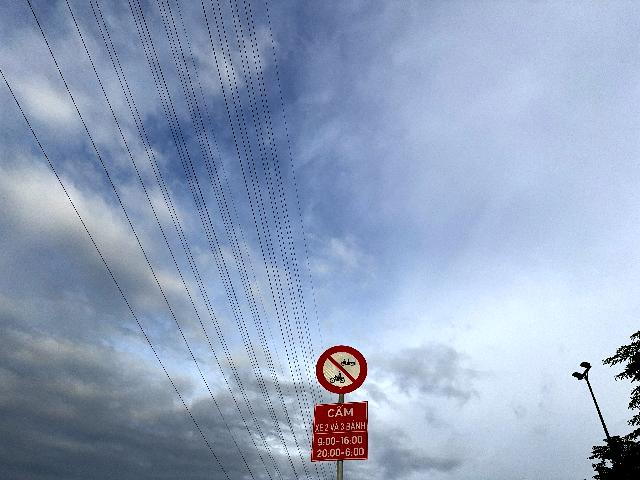cam-xe-2-banh-3-banh: (316, 345, 368, 395)
